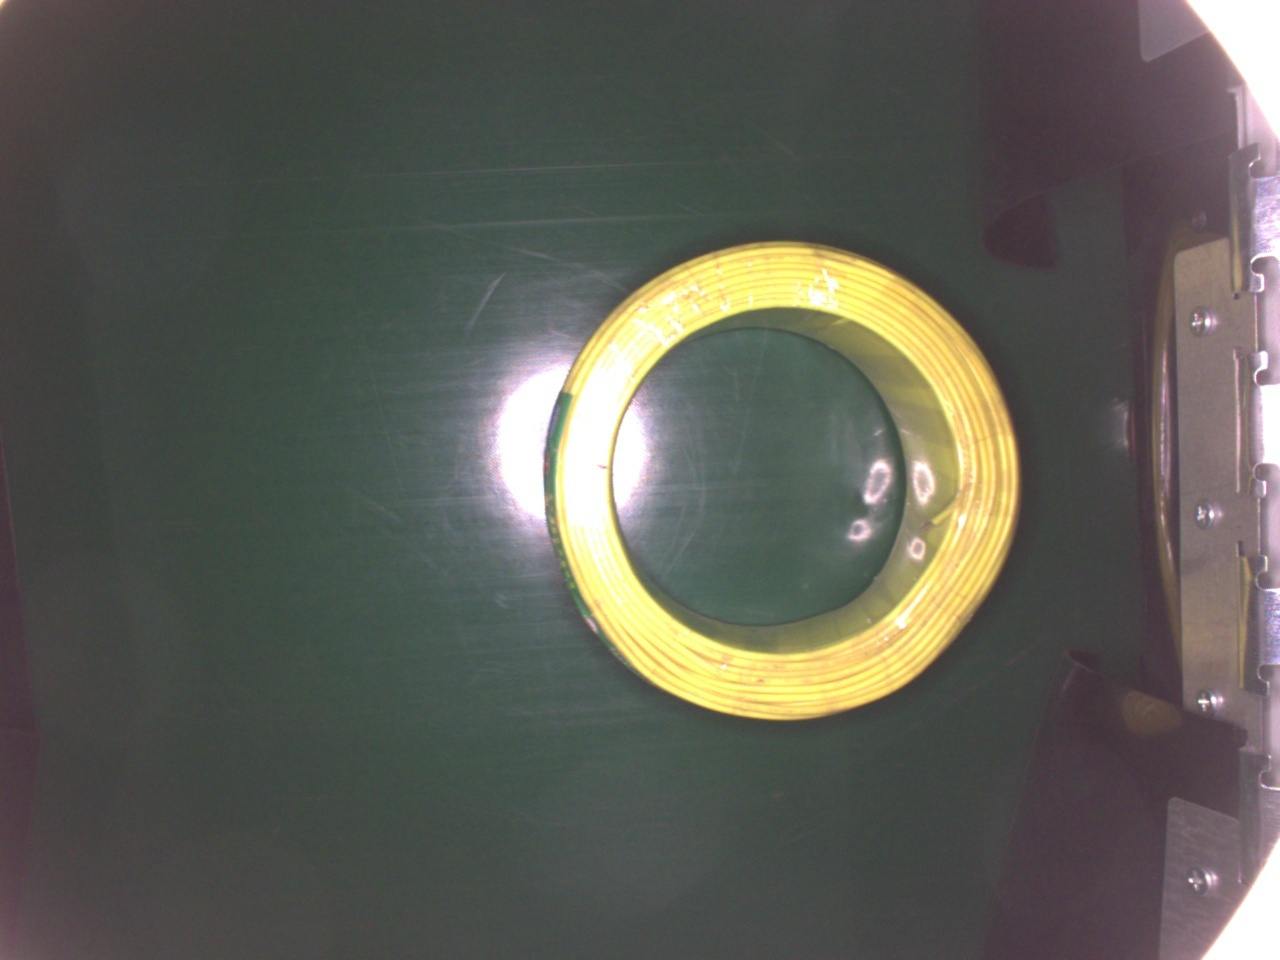yellow: (541, 234, 1029, 717)
